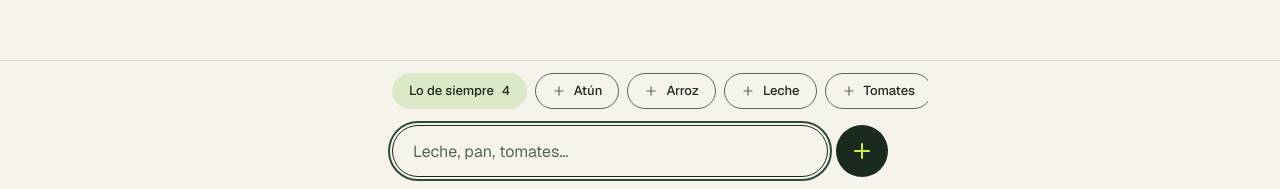
Test: the add field as a combobox › is collapsed with nothing typed, and expands with the options
Type "lec" into the dropdown named "Producto para agregar" at (610,151), box [392,125,828,177]
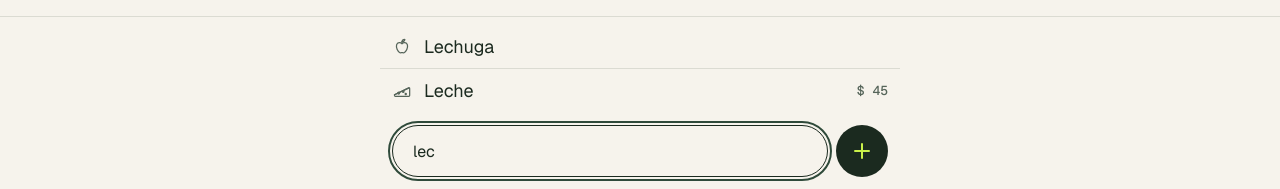
Expected: the dropdown named "Producto para agregar" is expanded, [392,125,828,177]
